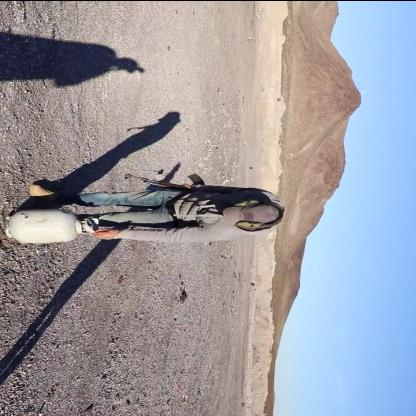long weapon: (123, 162, 209, 194)
